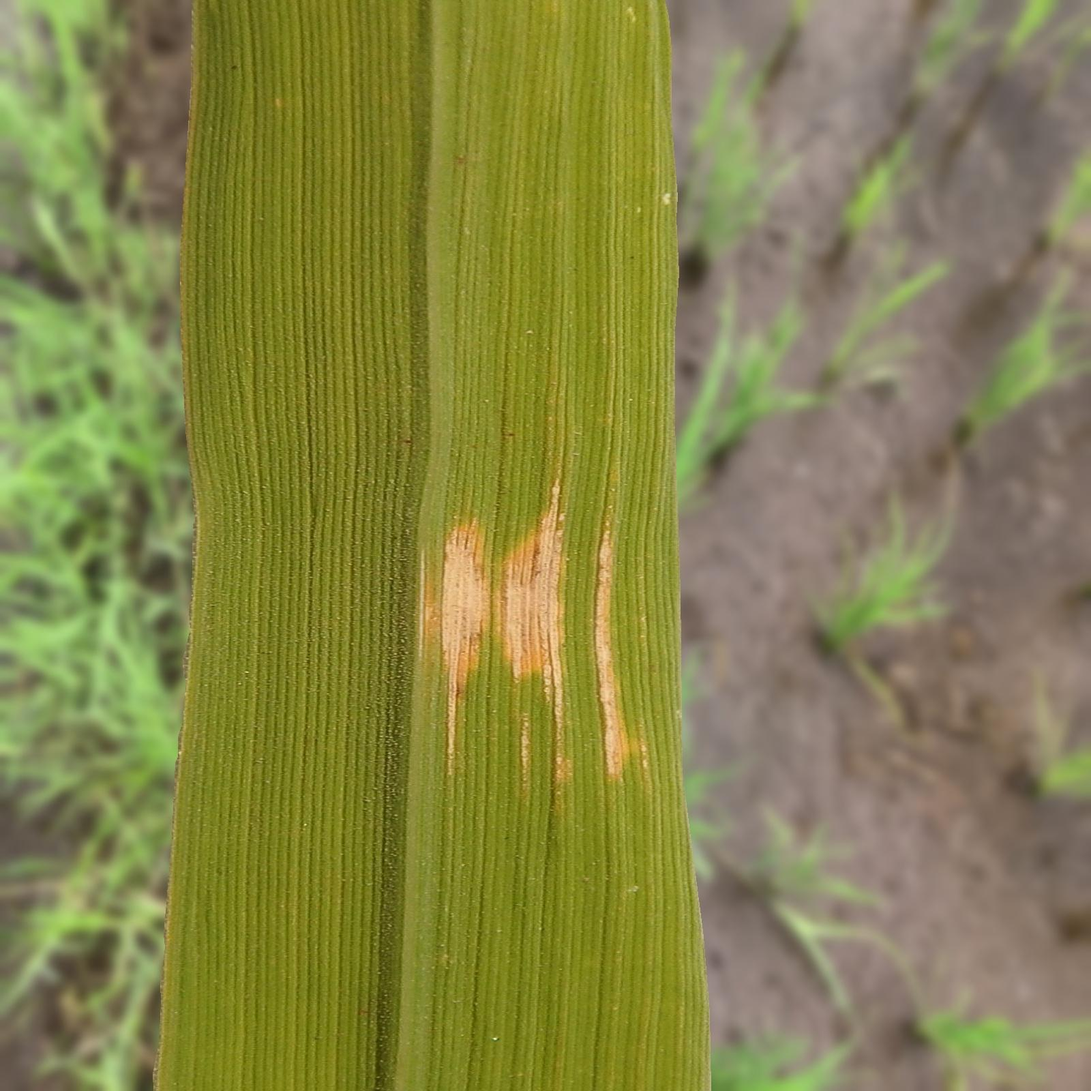BLS: (494, 479, 566, 782), (417, 520, 489, 773), (595, 513, 651, 792)
LEAF: (153, 0, 711, 1090)
